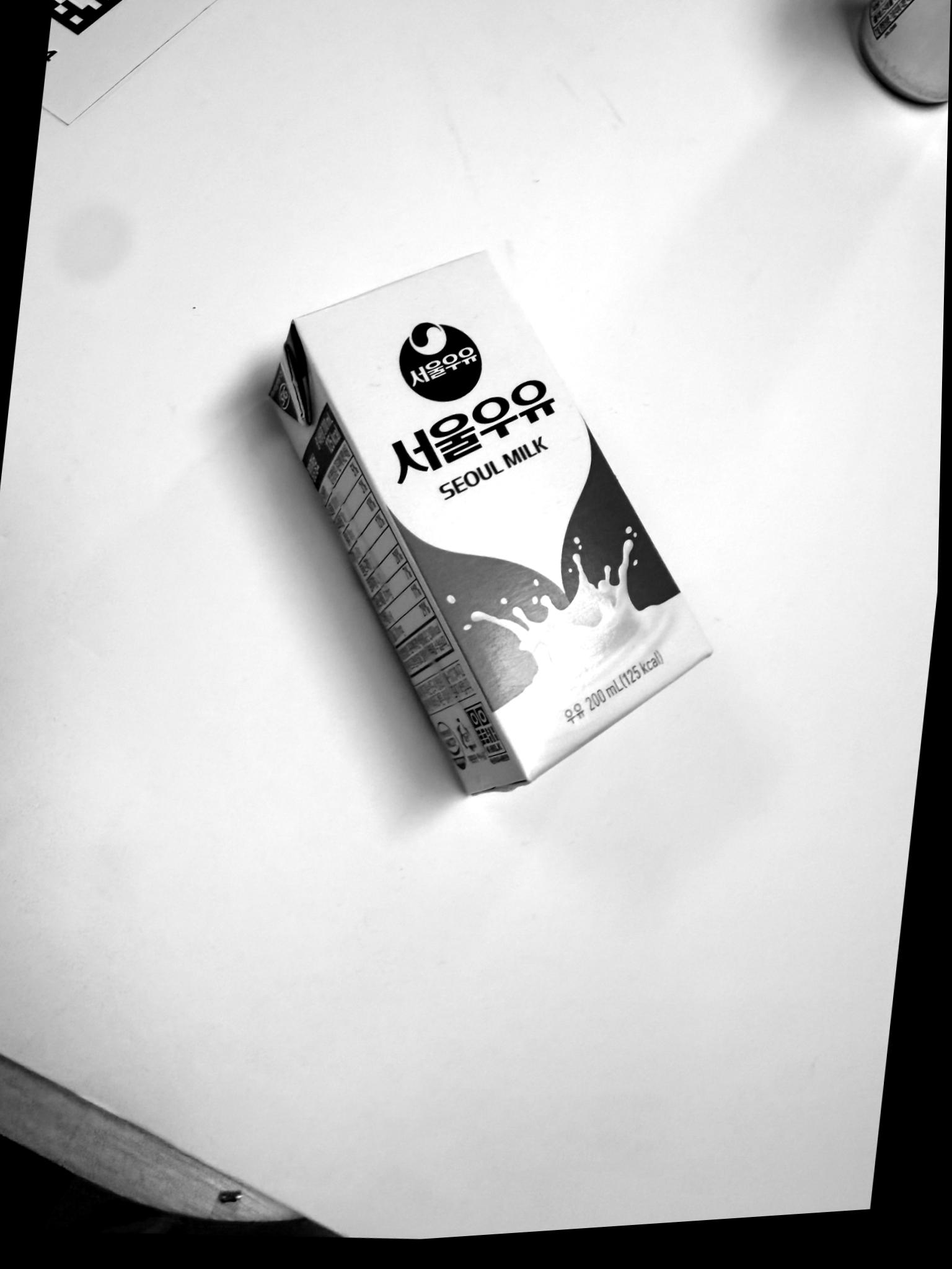milk_green: (264, 248, 715, 798)
